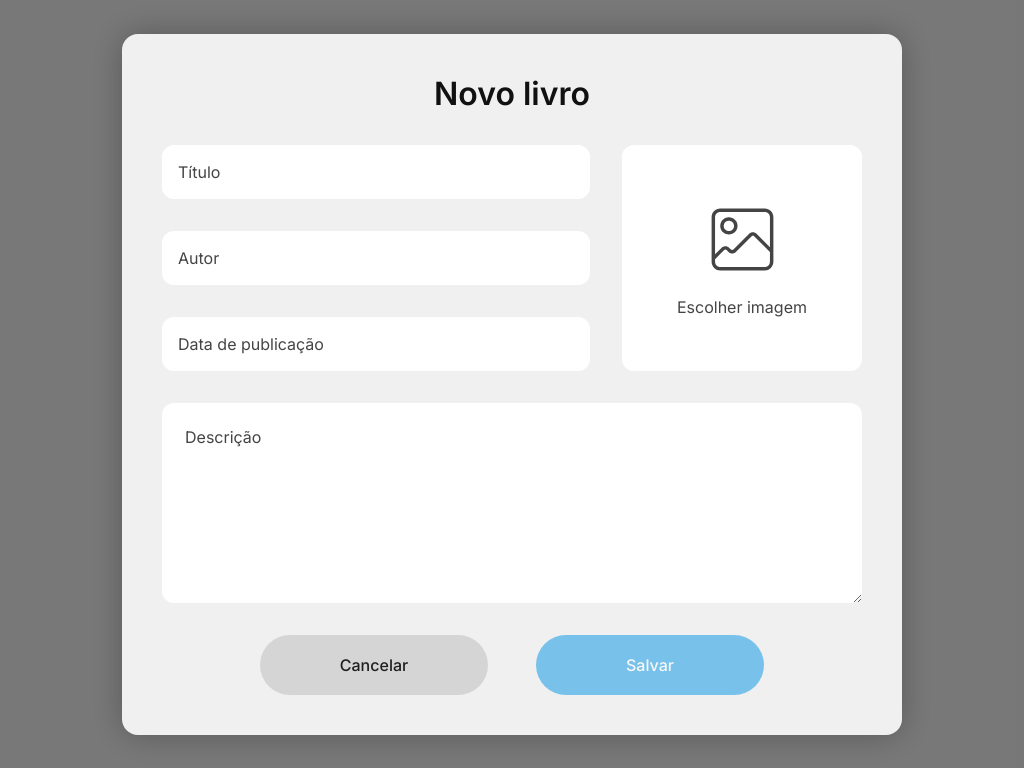
Test case: FormularioLivro › mostra erro e não salva quando a data é inválida
Type "Livro de Teste" into the field with placeholder "Título".
click(376, 172); type("Livro de Teste")  # box [162, 144, 590, 198]
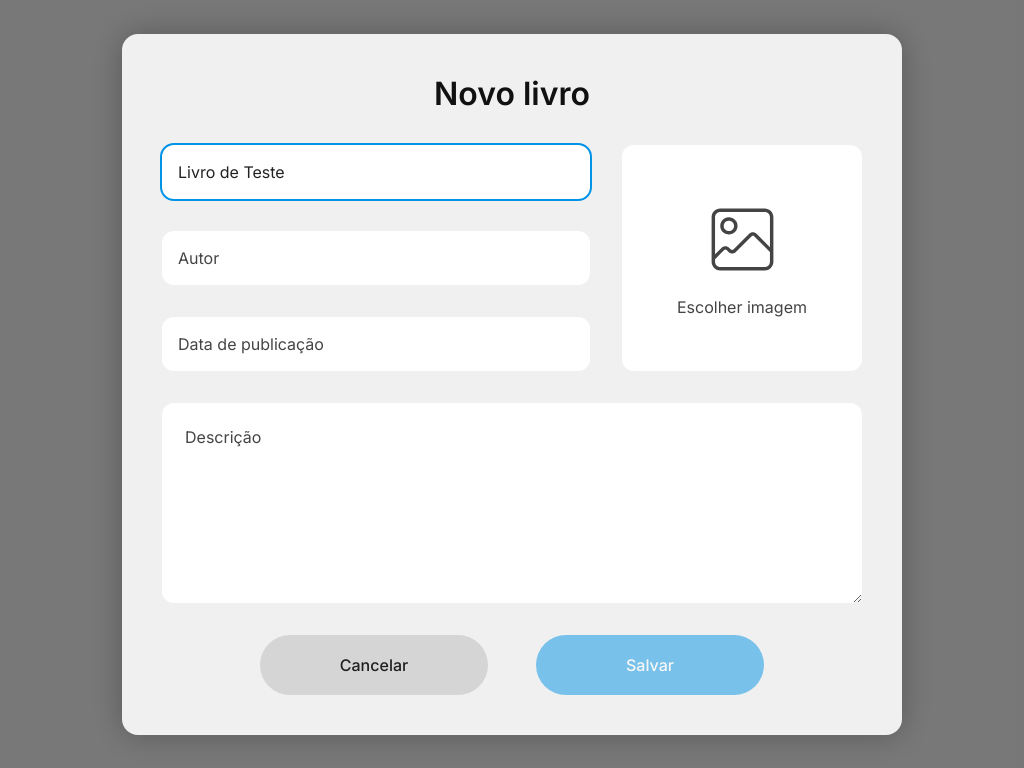
Type "Autor de Teste" into the field with placeholder "Autor".
click(376, 258); type("Autor de Teste")  # box [162, 230, 590, 284]
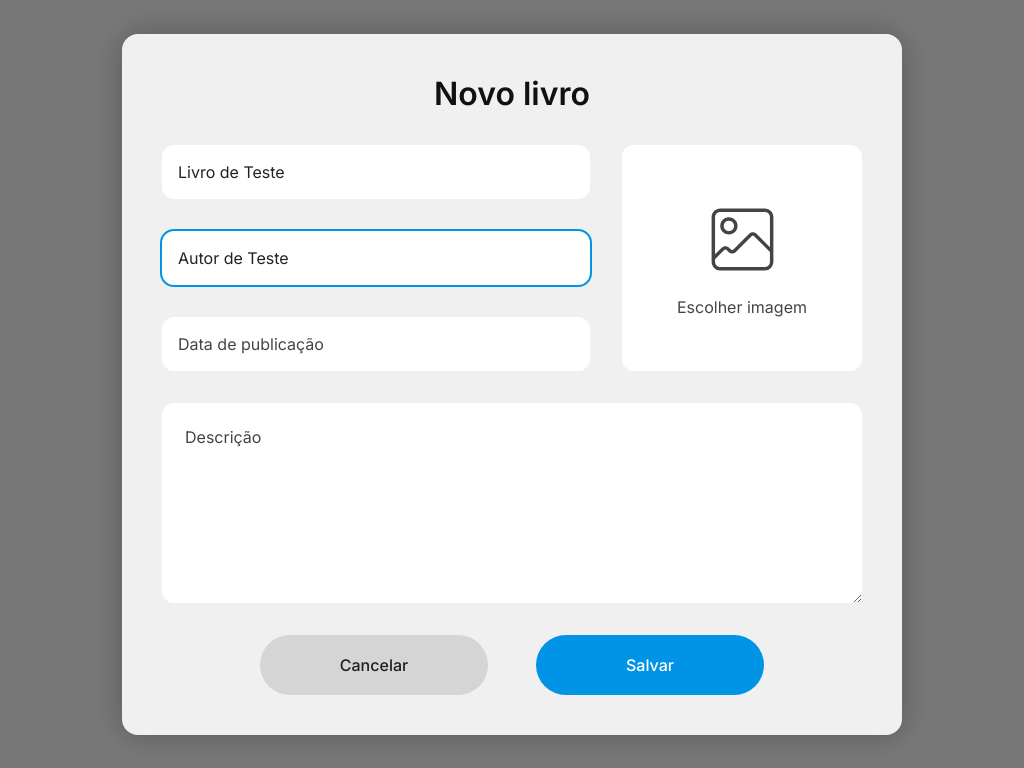
Type "31022020" into the field with placeholder "Data de publicação".
click(376, 344); type("31022020")  # box [162, 316, 590, 370]
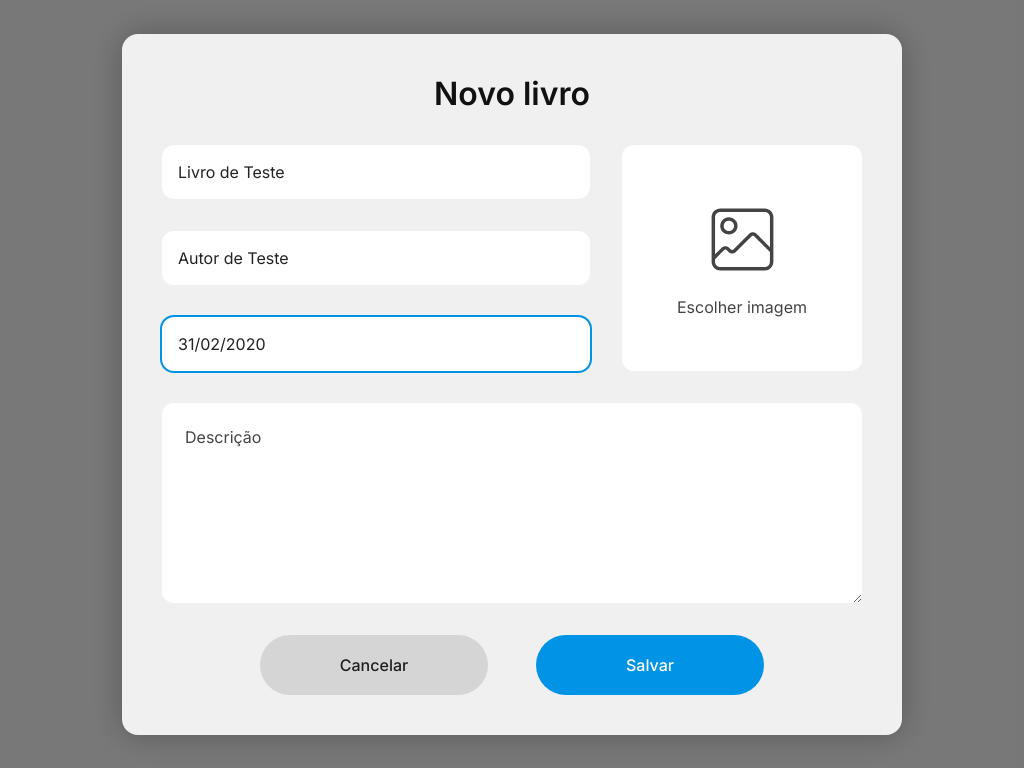
Click the button "Salvar".
click(650, 664)  # box [536, 634, 764, 694]
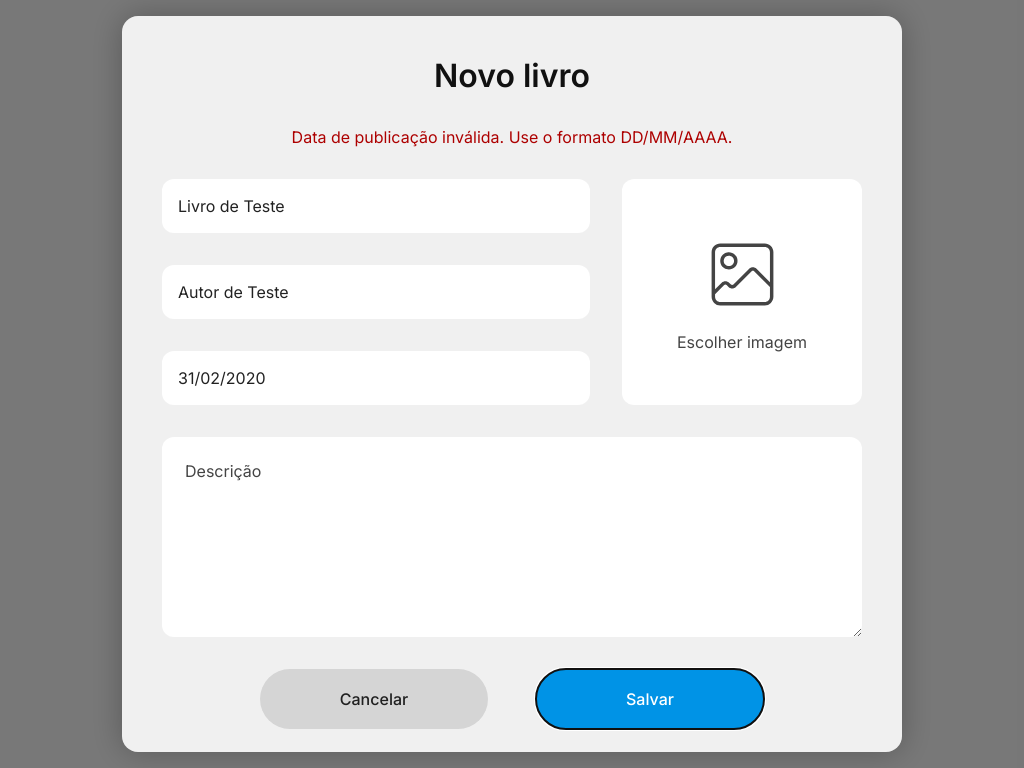
Expected: the text "Data de publicação inválida. Use o formato DD/MM/AAAA." is shown, [292, 127, 732, 147]
